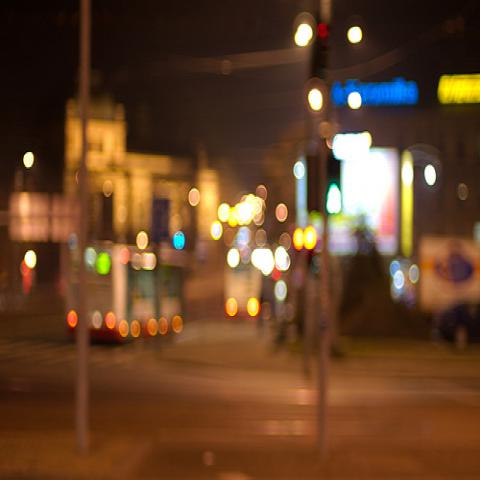bus: (86, 242, 186, 340)
truck: (410, 234, 478, 350)
